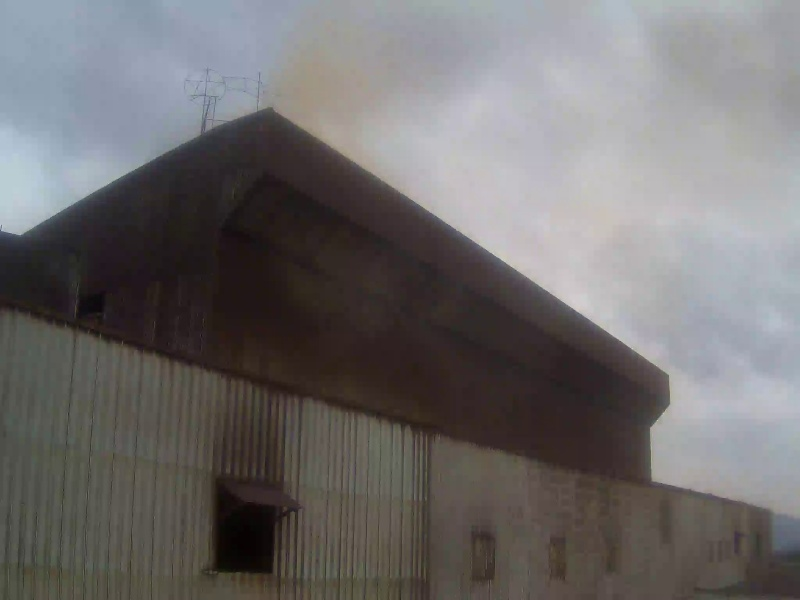bom: (96, 1, 264, 198), (1, 2, 168, 200)
ruim: (270, 7, 691, 315)
